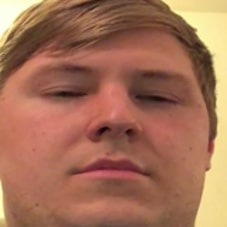drowsy: (25, 56, 199, 200)
